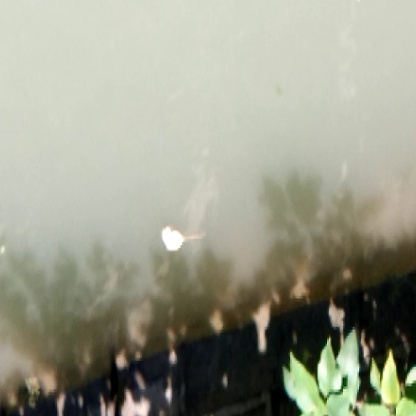leaf: (287, 353, 330, 413)
